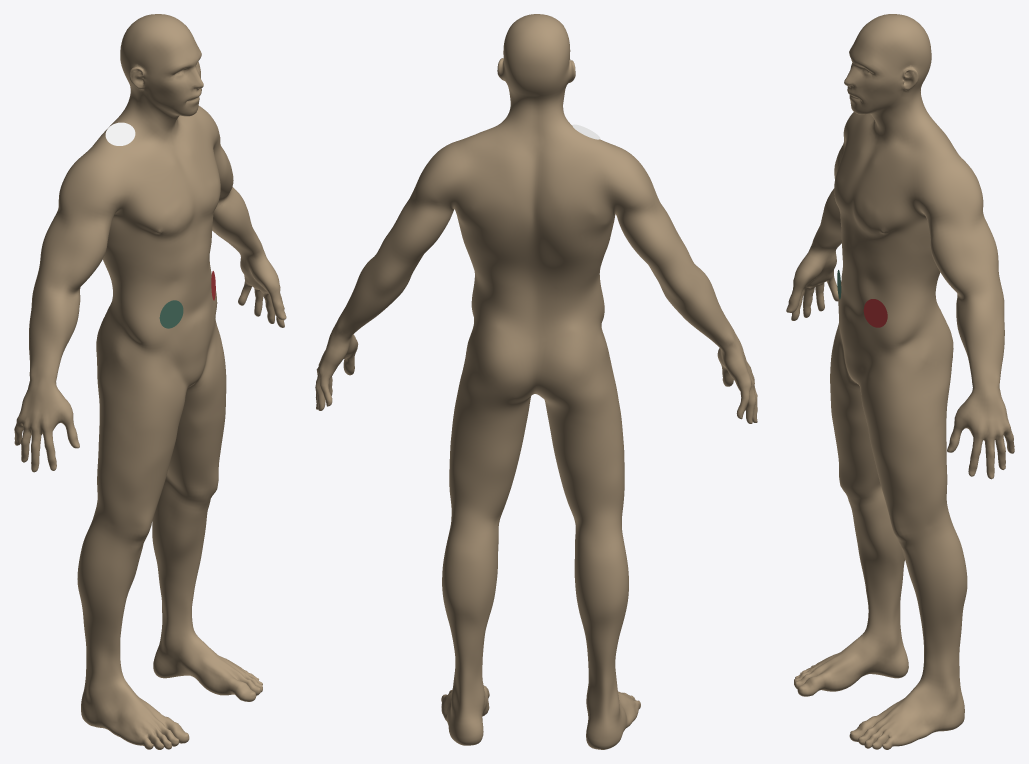
Rendered from Human_Body_3D.glb.
3 views of the same model, side by side, from view 1: azimuth 30°, elevation 25°; view 2: azimuth 150°, elevation 25°; view 3: azimuth 270°, elevation 25° (orthographic). The views are drawn at different scales.
Visible parts, largest first — view 1: Group1, Electrods Original White, Electrods Original Green; view 2: Group1; view 3: Group1, Electrods Original Red.
Part boxes in pixels (x1=…): Group1: x1=14, y1=14, x2=286, y2=749; Electrods Original White: x1=105, y1=122, x2=135, y2=145; Electrods Original Green: x1=159, y1=300, x2=183, y2=328; Group1: x1=315, y1=14, x2=757, y2=749; Group1: x1=786, y1=14, x2=1014, y2=749; Electrods Original Red: x1=863, y1=299, x2=887, y2=327.
Size of the model in its own units: 10.7 by 20.74 by 6.23.
